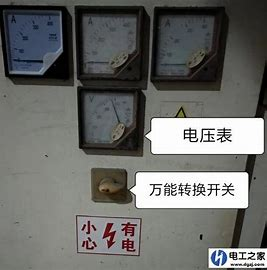pointer: (3, 9, 62, 75), (155, 13, 215, 76), (80, 11, 138, 74), (82, 91, 134, 146)
